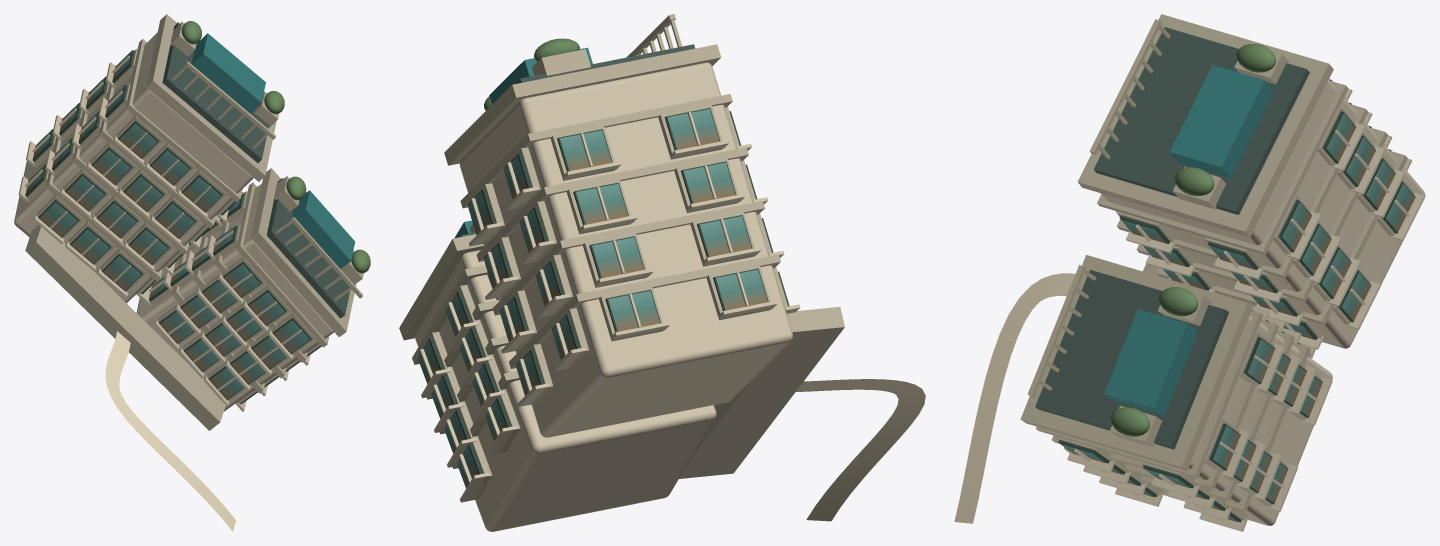
Rendered from apartments.glb.
The picture shows the model from 3 angles, left to right: view 1: azimuth 30°, elevation 25°; view 2: azimuth 150°, elevation 25°; view 3: azimuth 270°, elevation 25°; orthographic projection. The views are drawn at different scales.
Visible parts, largest first — view 1: apartments (×4); view 2: apartments (×4); view 3: apartments (×4).
Boxes of the visible parts, x1,y1,x2,y2 form: apartments (×4): [14, 14, 370, 531]; apartments (×4): [399, 14, 925, 531]; apartments (×4): [954, 14, 1425, 531].
Bounding box in the file's own units: 0.507 × 0.606 × 0.4945.
